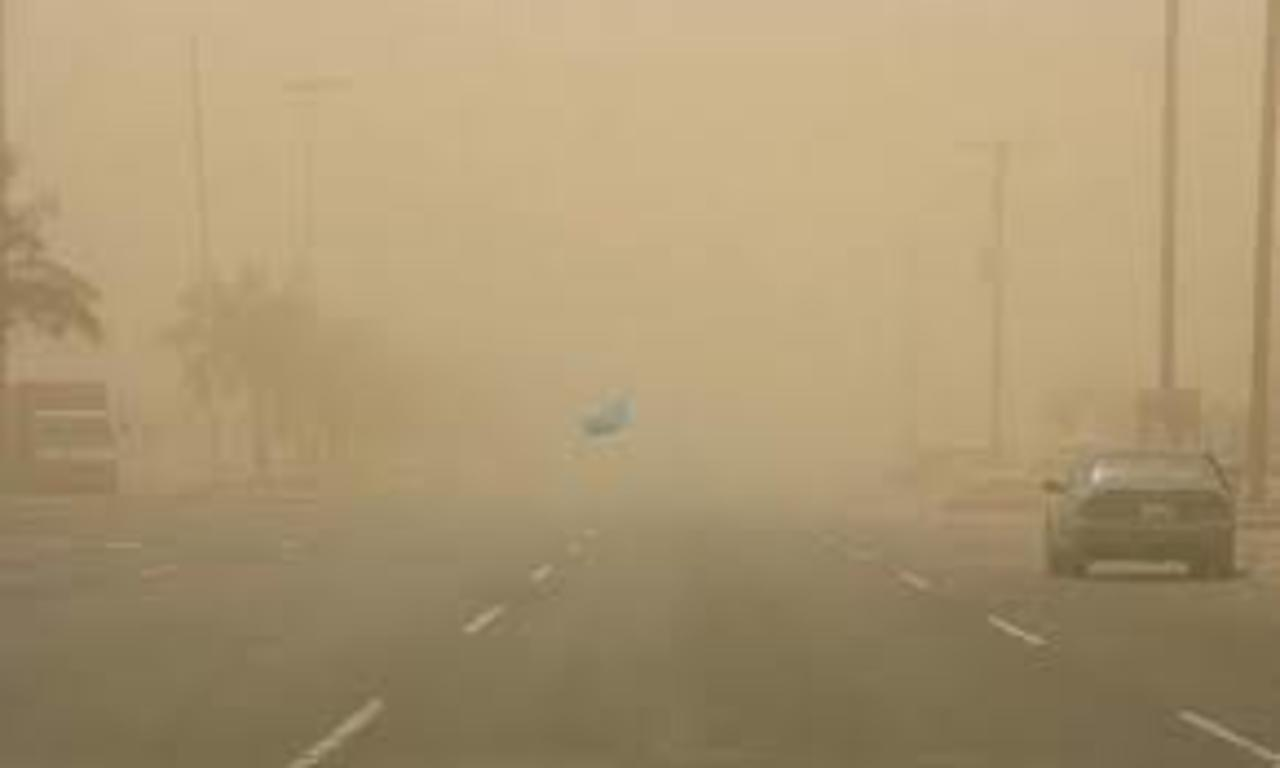car: (1039, 449, 1239, 578)
truck: (1, 376, 124, 491)
